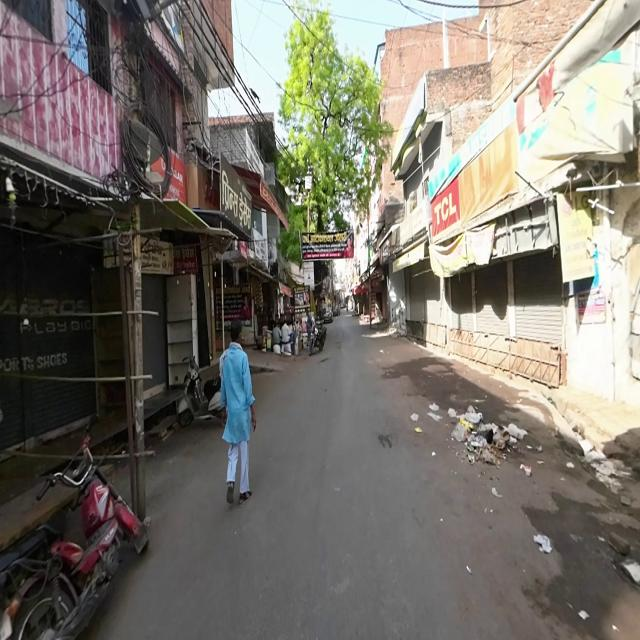Garbage: (448, 404, 532, 478)
